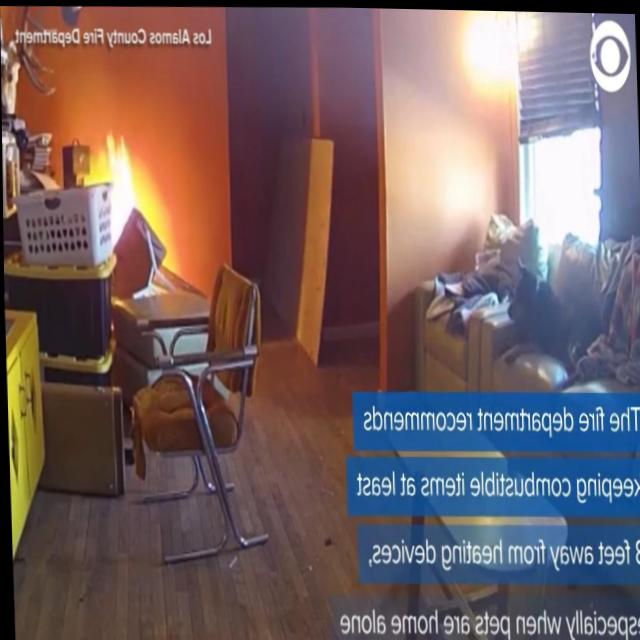fire: (90, 129, 148, 242)
